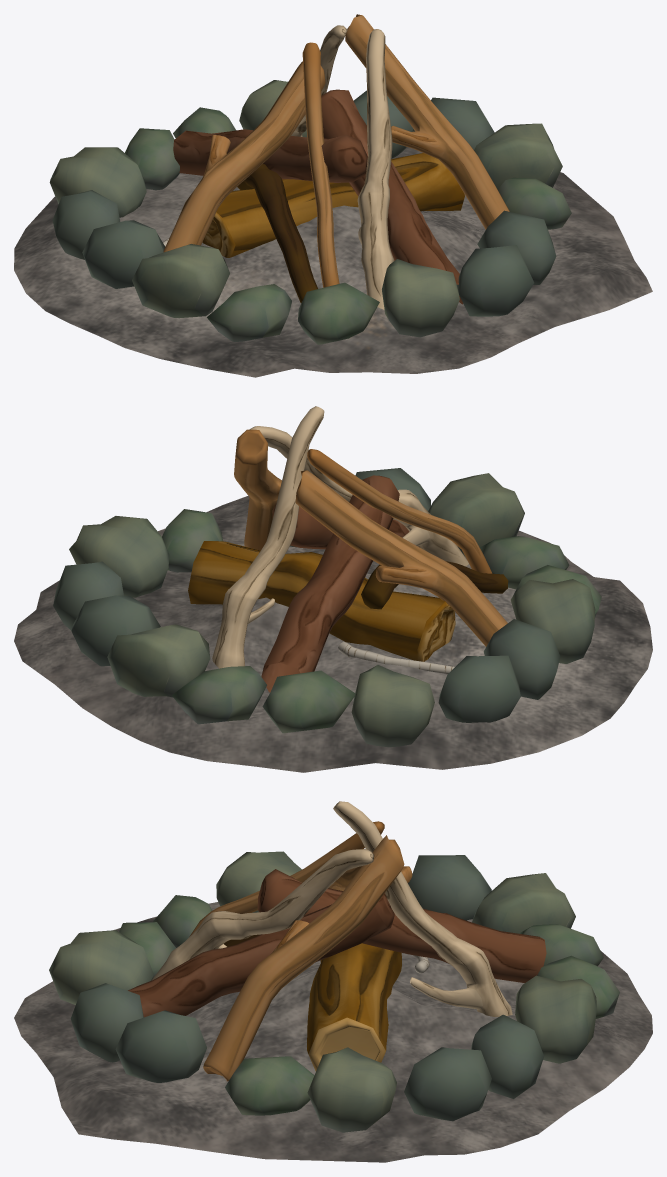
The model's file is Mesh_LevelAssetKit_CampFire.fbx.
The picture shows the model from 3 angles, top to bottom: view 1: azimuth 30°, elevation 25°; view 2: azimuth 150°, elevation 25°; view 3: azimuth 270°, elevation 25°; orthographic projection. The views are drawn at different scales.
Parts seen in each view (by area): view 1: polySurface96; view 2: polySurface96; view 3: polySurface96.
Boxes of the visible parts, <box> form: polySurface96: <box>14,14,652,377</box>; polySurface96: <box>14,406,652,772</box>; polySurface96: <box>14,801,652,1162</box>.
Bounding box in the file's own units: 198 × 83.47 × 194.
